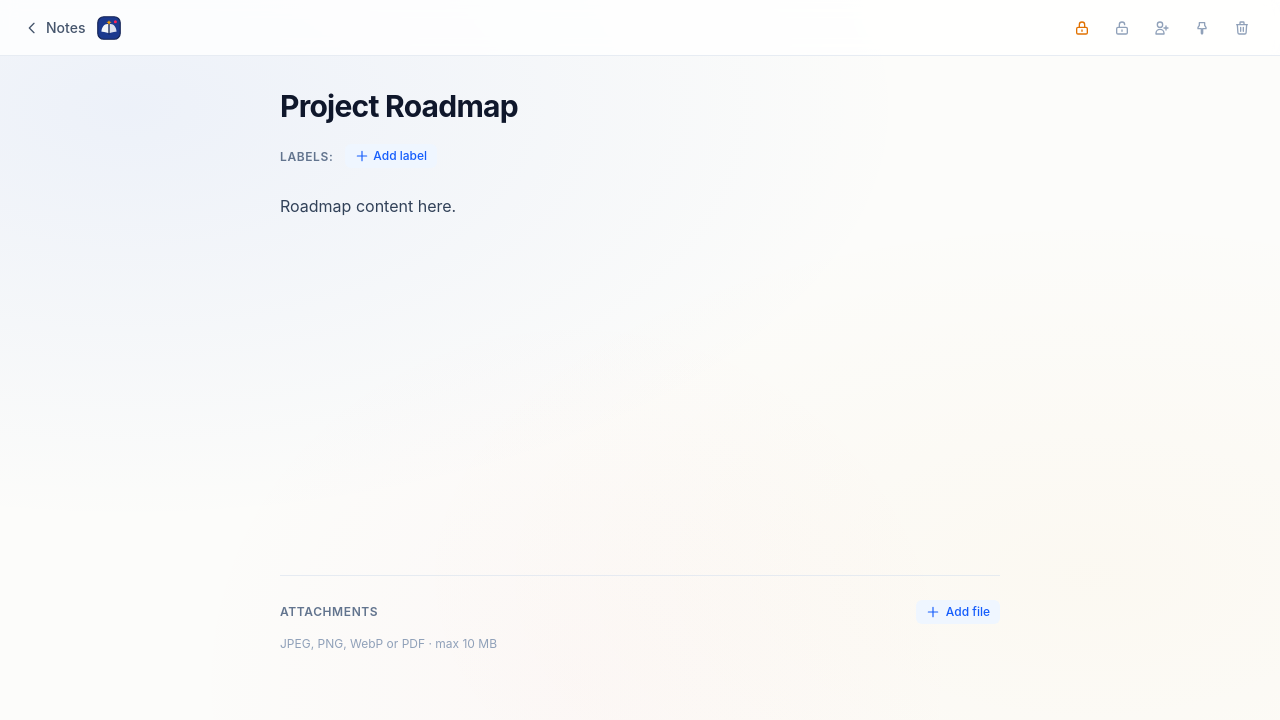
Test: SHARE-01 & SHARE-02 Note Protection Tests › Protection lifecycle and manual lock (SHARE-01 & SHARE-02) › allows owner to remove password protection with password confirmation
The width and height of the screenshot is (1280, 720).
Click the button with test id "remove-protection-button".
click(1122, 28)  # box x1=1108 y1=14 x2=1136 y2=42
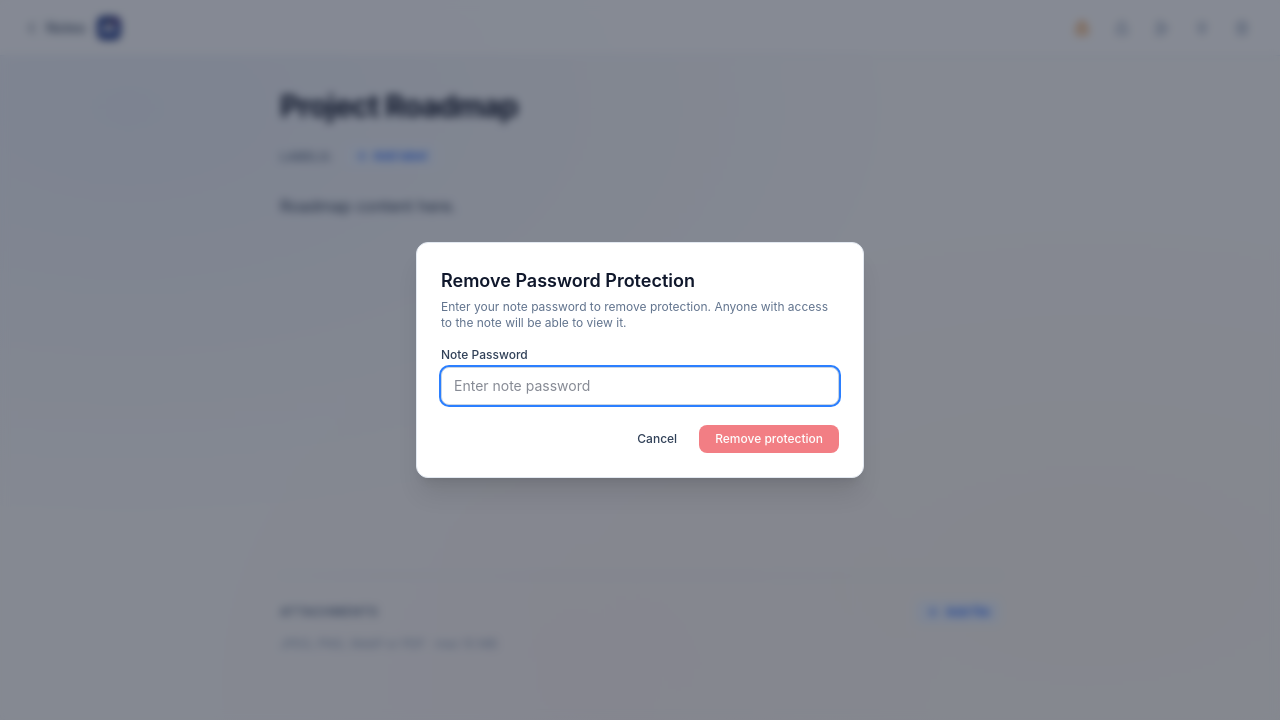
Result: the element with test id "remove-protection-modal" is shown
Type "SecretPassword123!" into the password field with test id "remove-protection-password-input".
click(640, 386); type("SecretPassword123!")  # box x1=441 y1=367 x2=839 y2=405
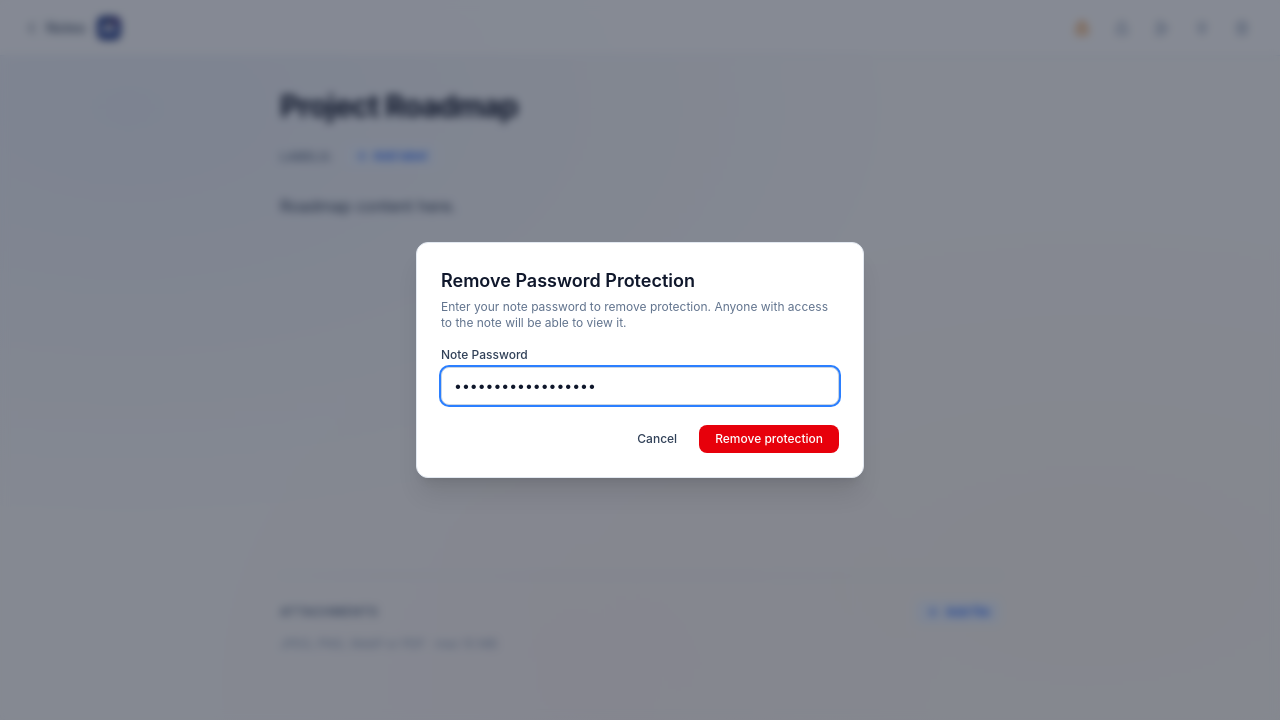
Click the button with test id "confirm-remove-protection-button".
click(769, 439)  # box x1=699 y1=425 x2=839 y2=453
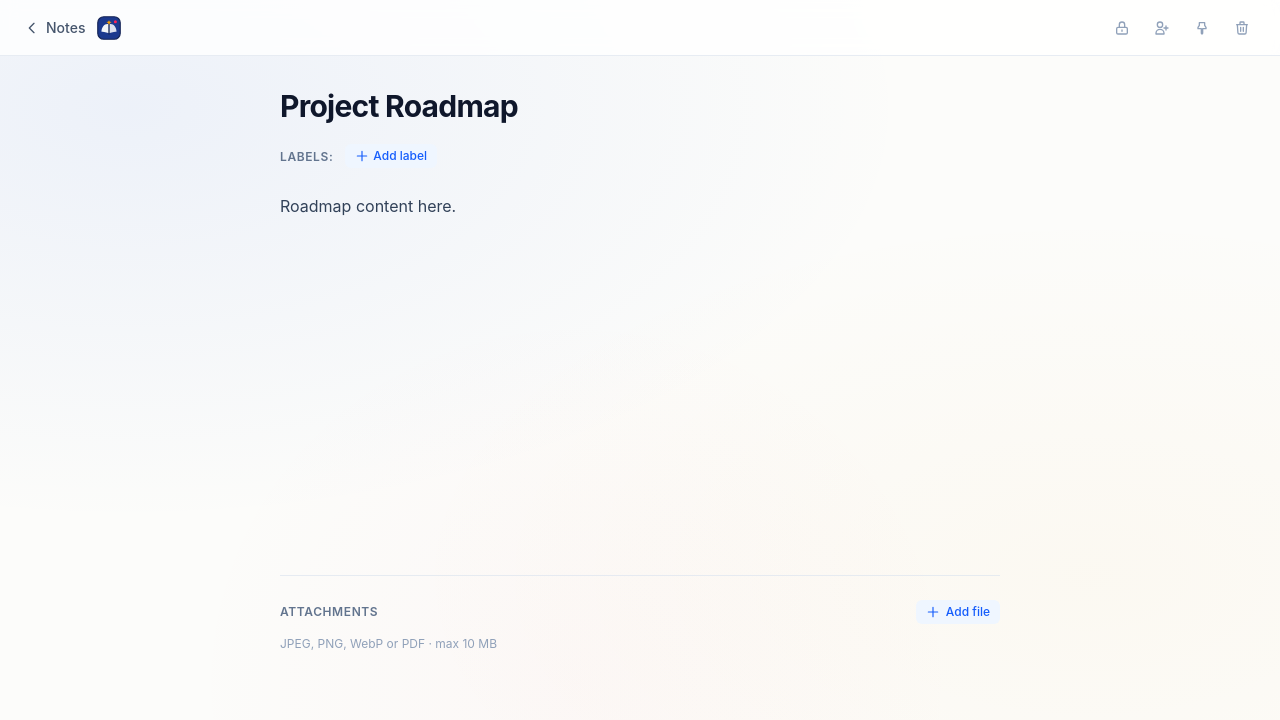
Result: the element with test id "remove-protection-modal" is gone
Result: the button with test id "protect-note-button" is shown at x1=1108 y1=14 x2=1136 y2=42
Result: the button with test id "lock-now-button" is gone
